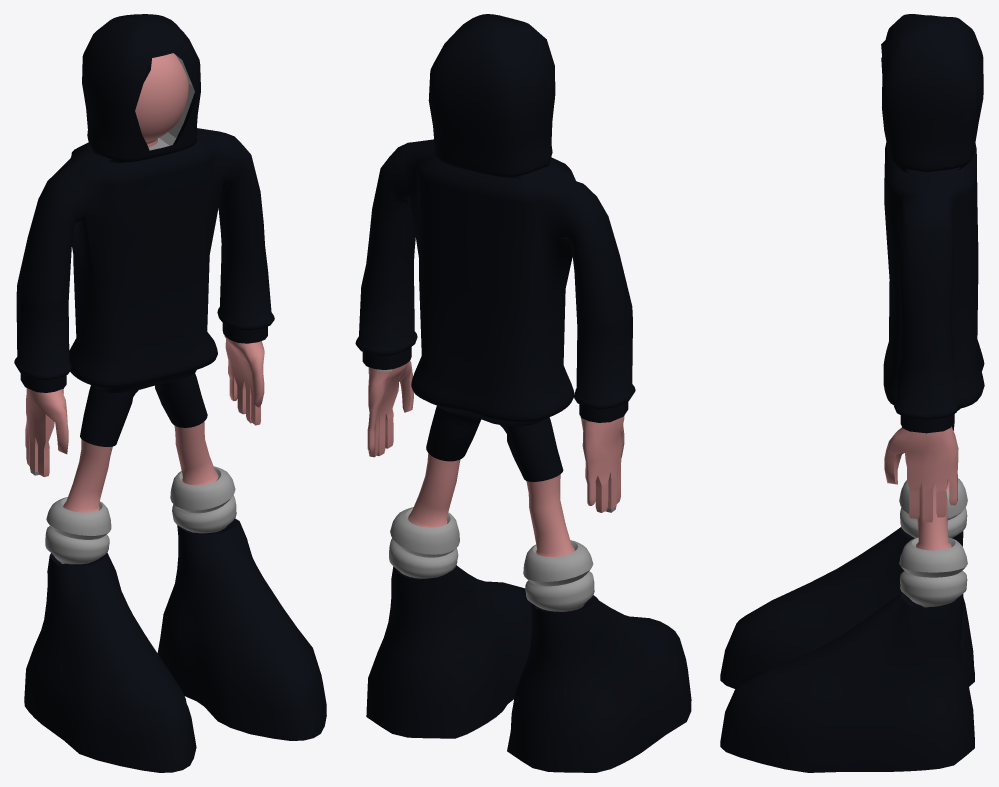
The model's file is Ch_Proto_V01.FBX.
The picture shows the model from 3 angles, left to right: view 1: azimuth 30°, elevation 25°; view 2: azimuth 150°, elevation 25°; view 3: azimuth 270°, elevation 25°; orthographic projection. The views are drawn at different scales.
Parts seen in each view (by area): view 1: Perso Proto; view 2: Perso Proto; view 3: Perso Proto.
Part boxes in pixels (box(x1,y1,x2,y2)): Perso Proto: box(14, 14, 326, 772); Perso Proto: box(355, 14, 691, 772); Perso Proto: box(720, 14, 984, 772).
Size of the model in its own units: 0.608 by 1.54 by 0.5354.
